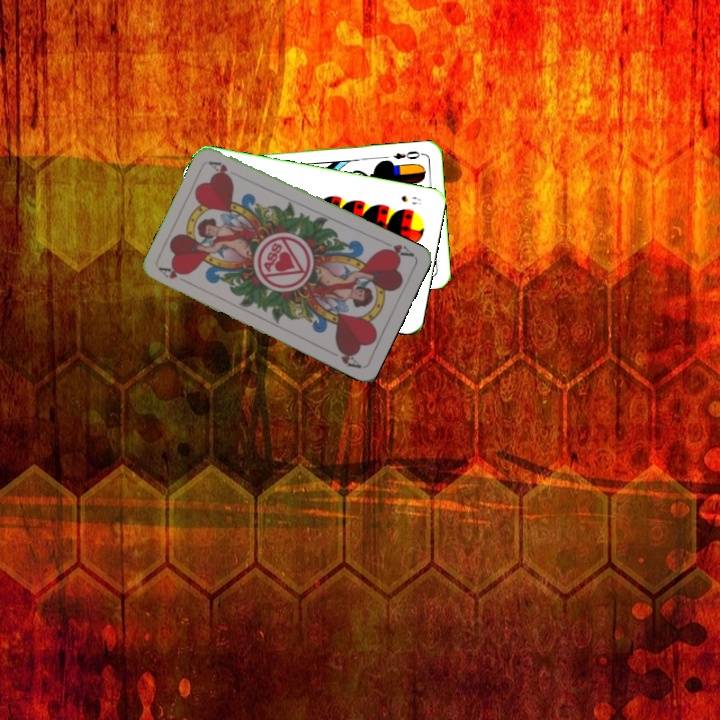EO: (389, 146, 422, 162)
HA: (156, 263, 194, 287), (377, 240, 417, 261)
S8: (397, 191, 424, 207)
